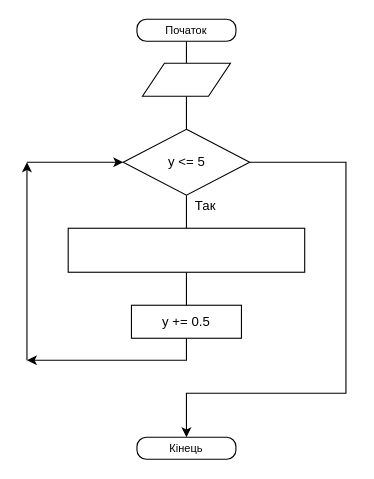
This 374x479 diagram has some shape labels left out. Each missing label, with the box of its shape:
A = cbrt(x + sqrt(sqrt(fabs(y)))): (67, 227, 305, 272)
y = -5: (141, 62, 230, 96)
